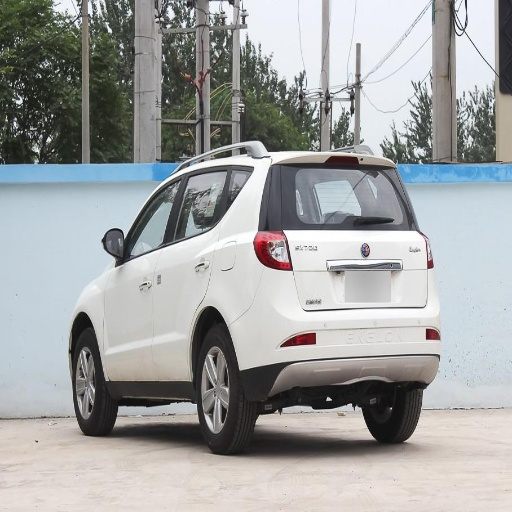back_bumper: (228, 265, 439, 404)
back_glass: (268, 164, 412, 227)
back_left_door: (153, 169, 217, 379)
trunk: (277, 232, 432, 327)
